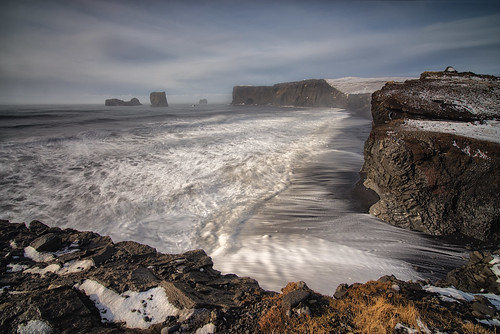sea: (1, 101, 333, 224)
sky: (1, 1, 500, 75)
